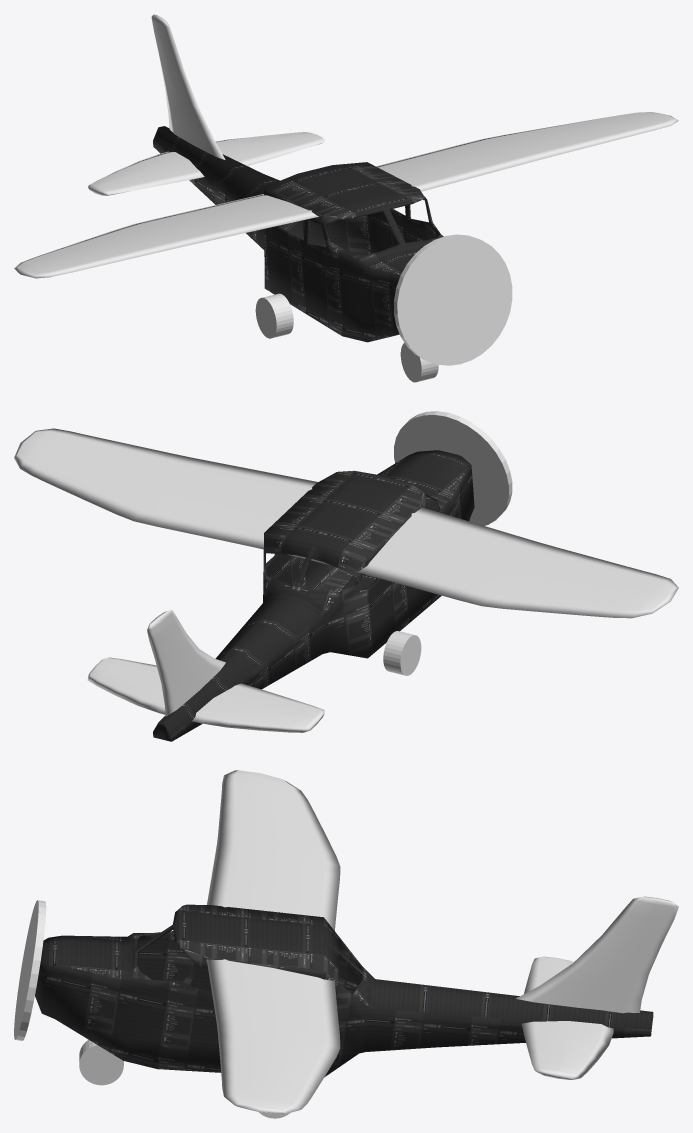
The model's file is cessna.glb.
The picture shows the model from 3 angles, top to bottom: view 1: azimuth 30°, elevation 25°; view 2: azimuth 150°, elevation 25°; view 3: azimuth 270°, elevation 25°; orthographic projection. The views are drawn at different scales.
Visible parts, largest first — view 1: body.001, wing, propeller, wing.002, wing.001, brwheel, fwheel; view 2: wing, body.001, wing.002, propeller, wing.001, brwheel; view 3: body.001, wing, wing.001, wing.002, propeller, fwheel.
Boxes of the visible parts, x1,y1,x2,y2 form: body.001: (153, 126, 443, 342); wing: (14, 112, 678, 278); propeller: (394, 234, 512, 365); wing.002: (88, 132, 324, 195); wing.001: (151, 14, 225, 159); brwheel: (255, 293, 293, 338); fwheel: (400, 343, 438, 382); wing: (14, 428, 678, 618); body.001: (153, 450, 474, 741); wing.002: (87, 657, 324, 732); propeller: (394, 411, 512, 525); wing.001: (147, 610, 225, 716); brwheel: (383, 631, 421, 675); body.001: (35, 904, 653, 1077); wing: (206, 770, 340, 1114); wing.001: (515, 896, 678, 1013); wing.002: (521, 956, 613, 1079); propeller: (14, 900, 46, 1040); fwheel: (79, 1039, 123, 1085).
Bounding box in the file's own units: 20.4 × 5.15 × 16.91.
1 material, 1 textured.
